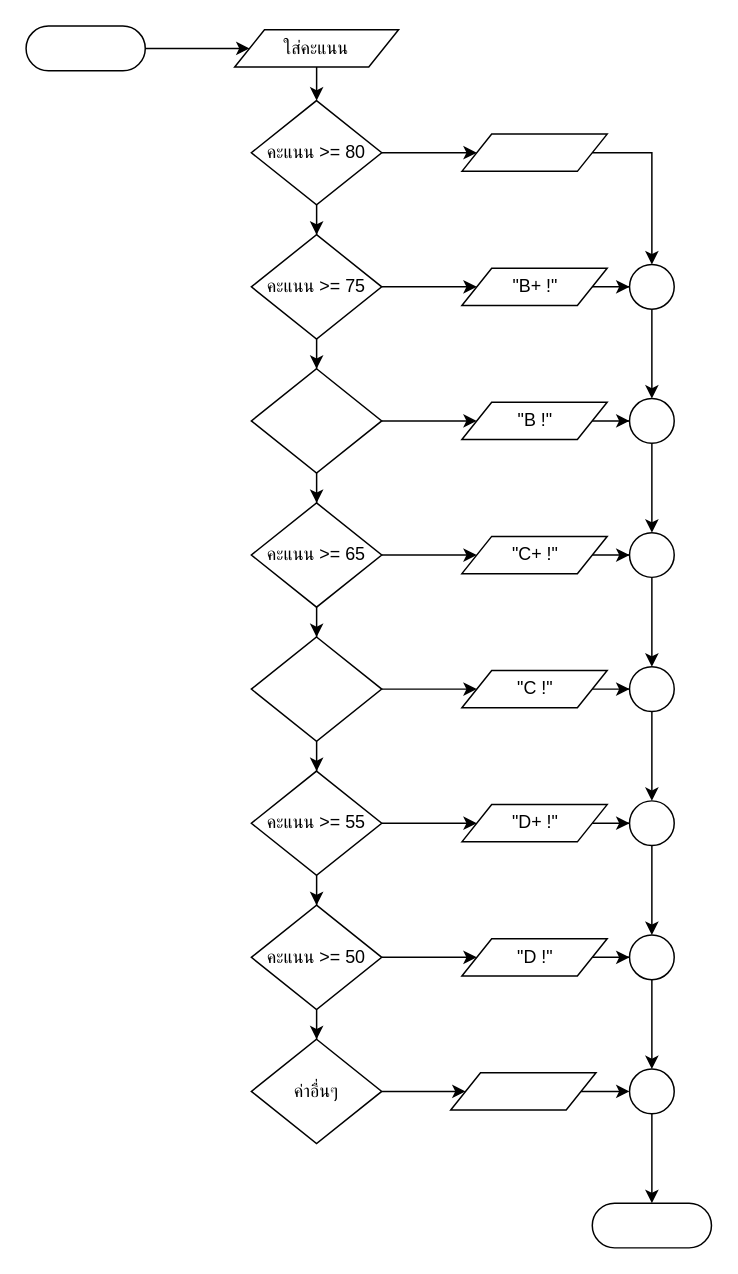
The diagram is 738 pixels wide and 1274 high, and some of its shapes have lost their labels. Here are the shapes that lost their labels. From the top down, the box of each, then its label:
(25, 25, 145, 71): START
(460, 133, 607, 171): "A !"
(250, 367, 382, 473): คะแนน >= 70
(250, 635, 382, 741): คะแนน >= 60
(449, 1071, 596, 1110): "F !"
(591, 1202, 711, 1248): END
